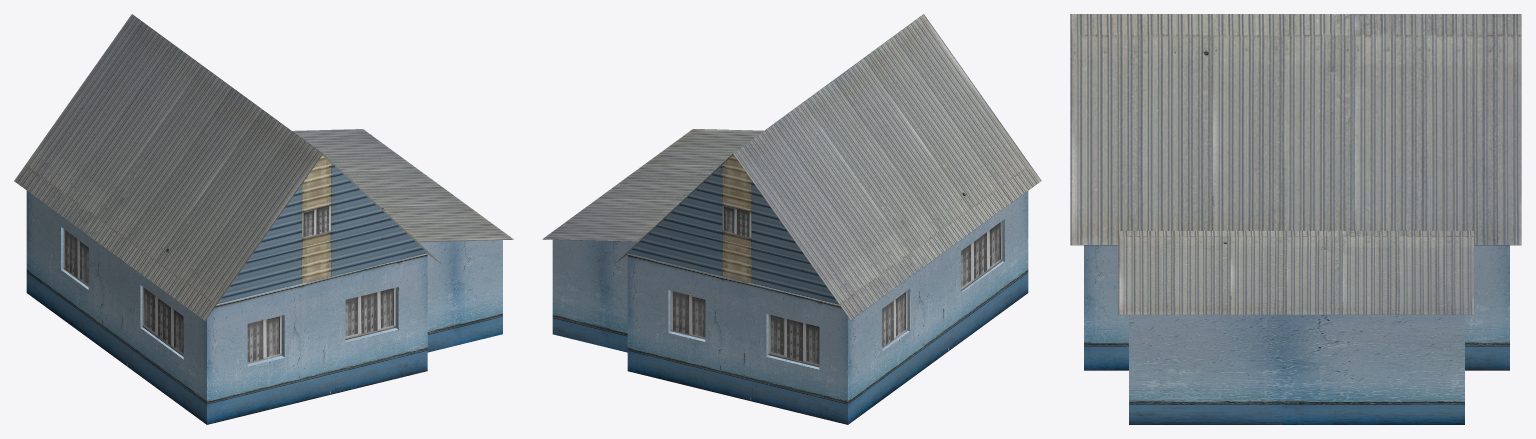
Rendered from village-house.fbx.
3 renders of one model, left to right at view 1: azimuth 30°, elevation 25°; view 2: azimuth 150°, elevation 25°; view 3: azimuth 270°, elevation 25°, orthographic. The views are drawn at different scales.
Parts seen in each view (by area): view 1: Box01; view 2: Box01; view 3: Box01.
Boxes of the visible parts, x1,y1,x2,y2 form: Box01: (14,14,513,424); Box01: (542,14,1041,424); Box01: (1070,14,1521,424).
Size of the model in its own units: 11.68 by 8.42 by 11.75.
Materials: 1 (1 with a texture image).
